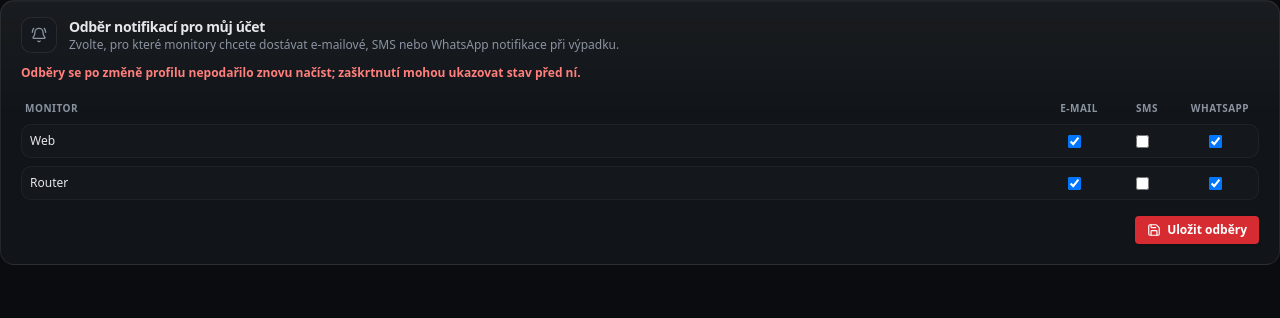
Test: SubscriptionsCard › drops the reload error once a later load succeeds (a box is ticked and unticked again)
Expected: the 3rd checkbox is checked, [1208,134,1222,148]
Expected: the message shows "nepodařilo znovu načíst", [21,64,581,81]
Click the 2nd checkbox at (1142, 141), box [1136,134,1148,148]
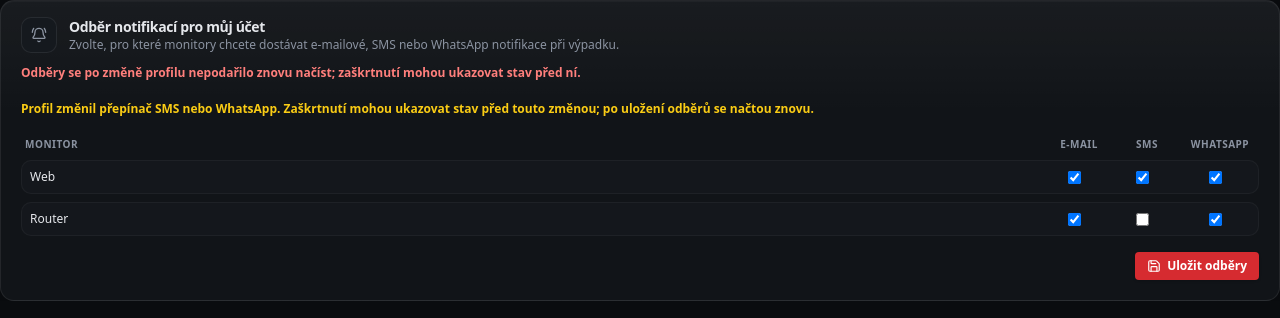
Click the 2nd checkbox at (1142, 177), box [1136,170,1148,184]
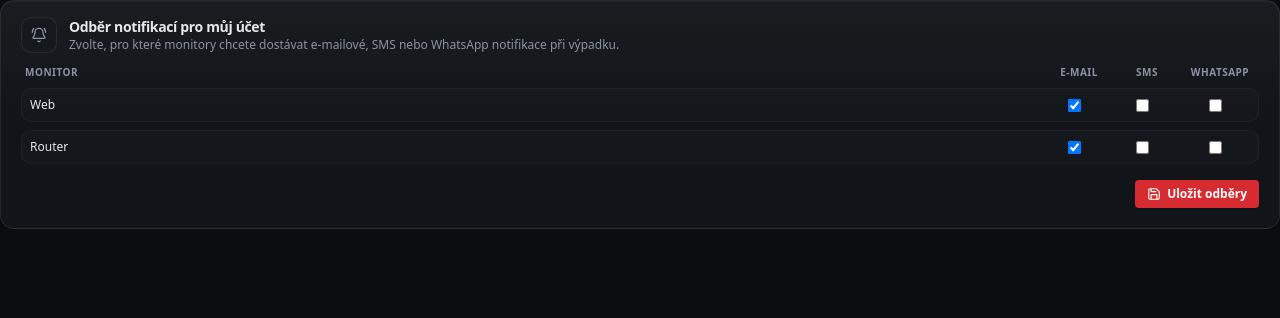
Expected: the 3rd checkbox is not checked, [1208,98,1222,112]
